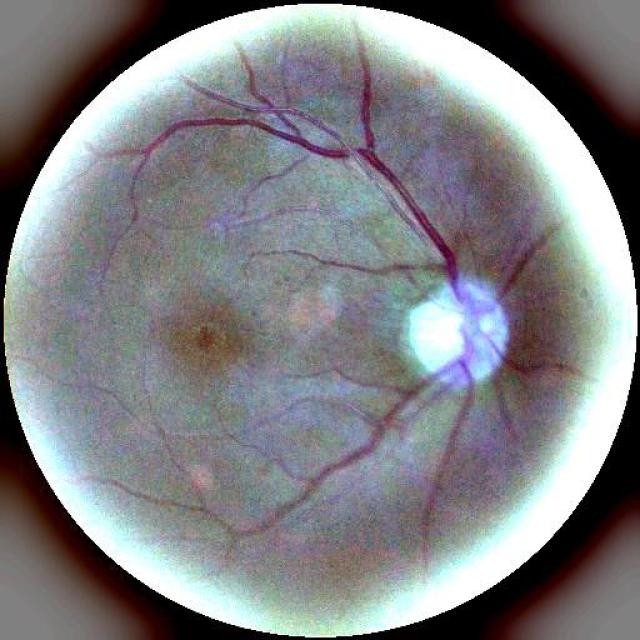Macula: (199, 326, 216, 346)
Nerves: (121, 30, 602, 560)
Optic Disk: (406, 280, 508, 384)
